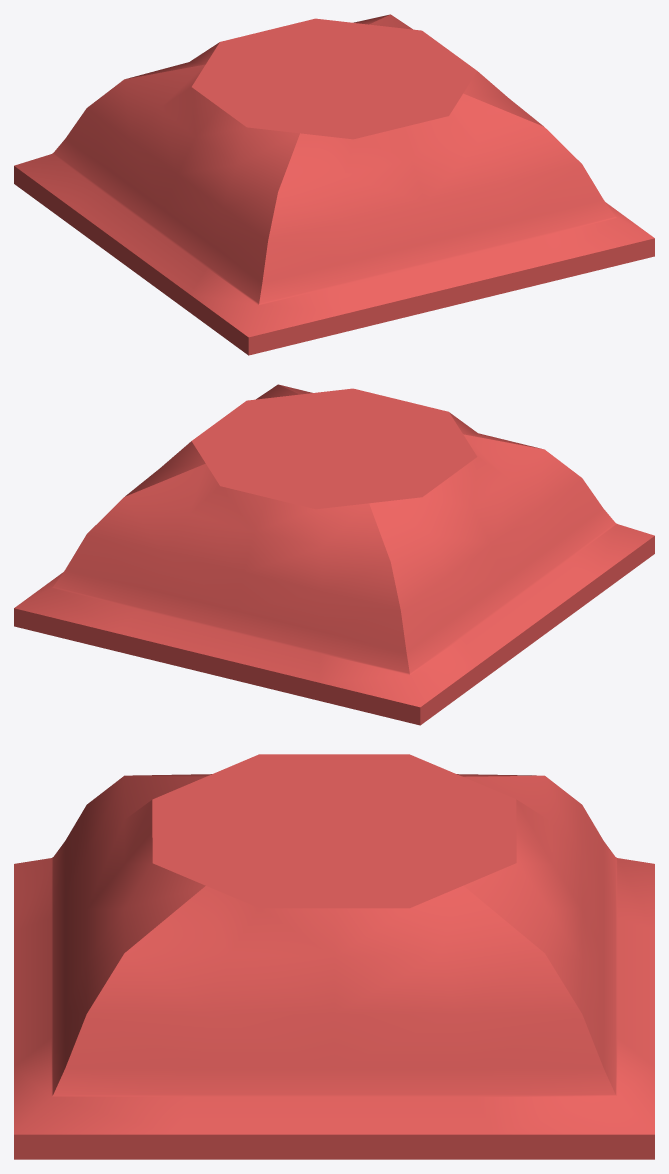
Rendered from ImperialPillarEnd_A.fbx.
The picture shows the model from 3 angles, top to bottom: view 1: azimuth 30°, elevation 25°; view 2: azimuth 150°, elevation 25°; view 3: azimuth 270°, elevation 25°; orthographic projection. The views are drawn at different scales.
Parts seen in each view (by area): view 1: ImperialPillarEnd_A; view 2: ImperialPillarEnd_A; view 3: ImperialPillarEnd_A.
Boxes of the visible parts, x1,y1,x2,y2 form: ImperialPillarEnd_A: (14, 14, 654, 355); ImperialPillarEnd_A: (14, 384, 654, 725); ImperialPillarEnd_A: (14, 754, 654, 1159).
Size of the model in its own units: 205 by 68 by 205.
